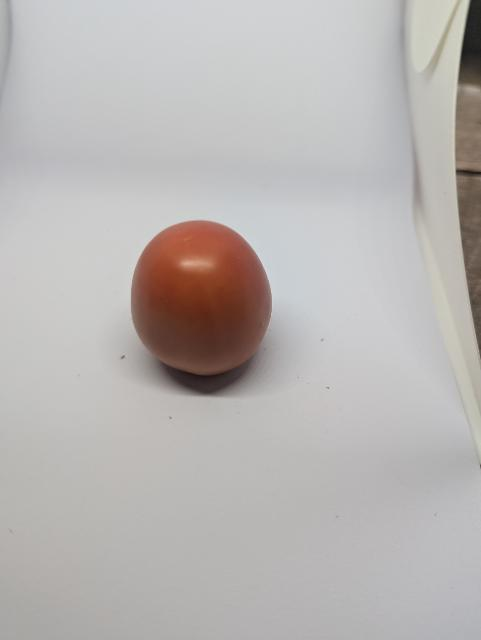red: (114, 211, 288, 417)
